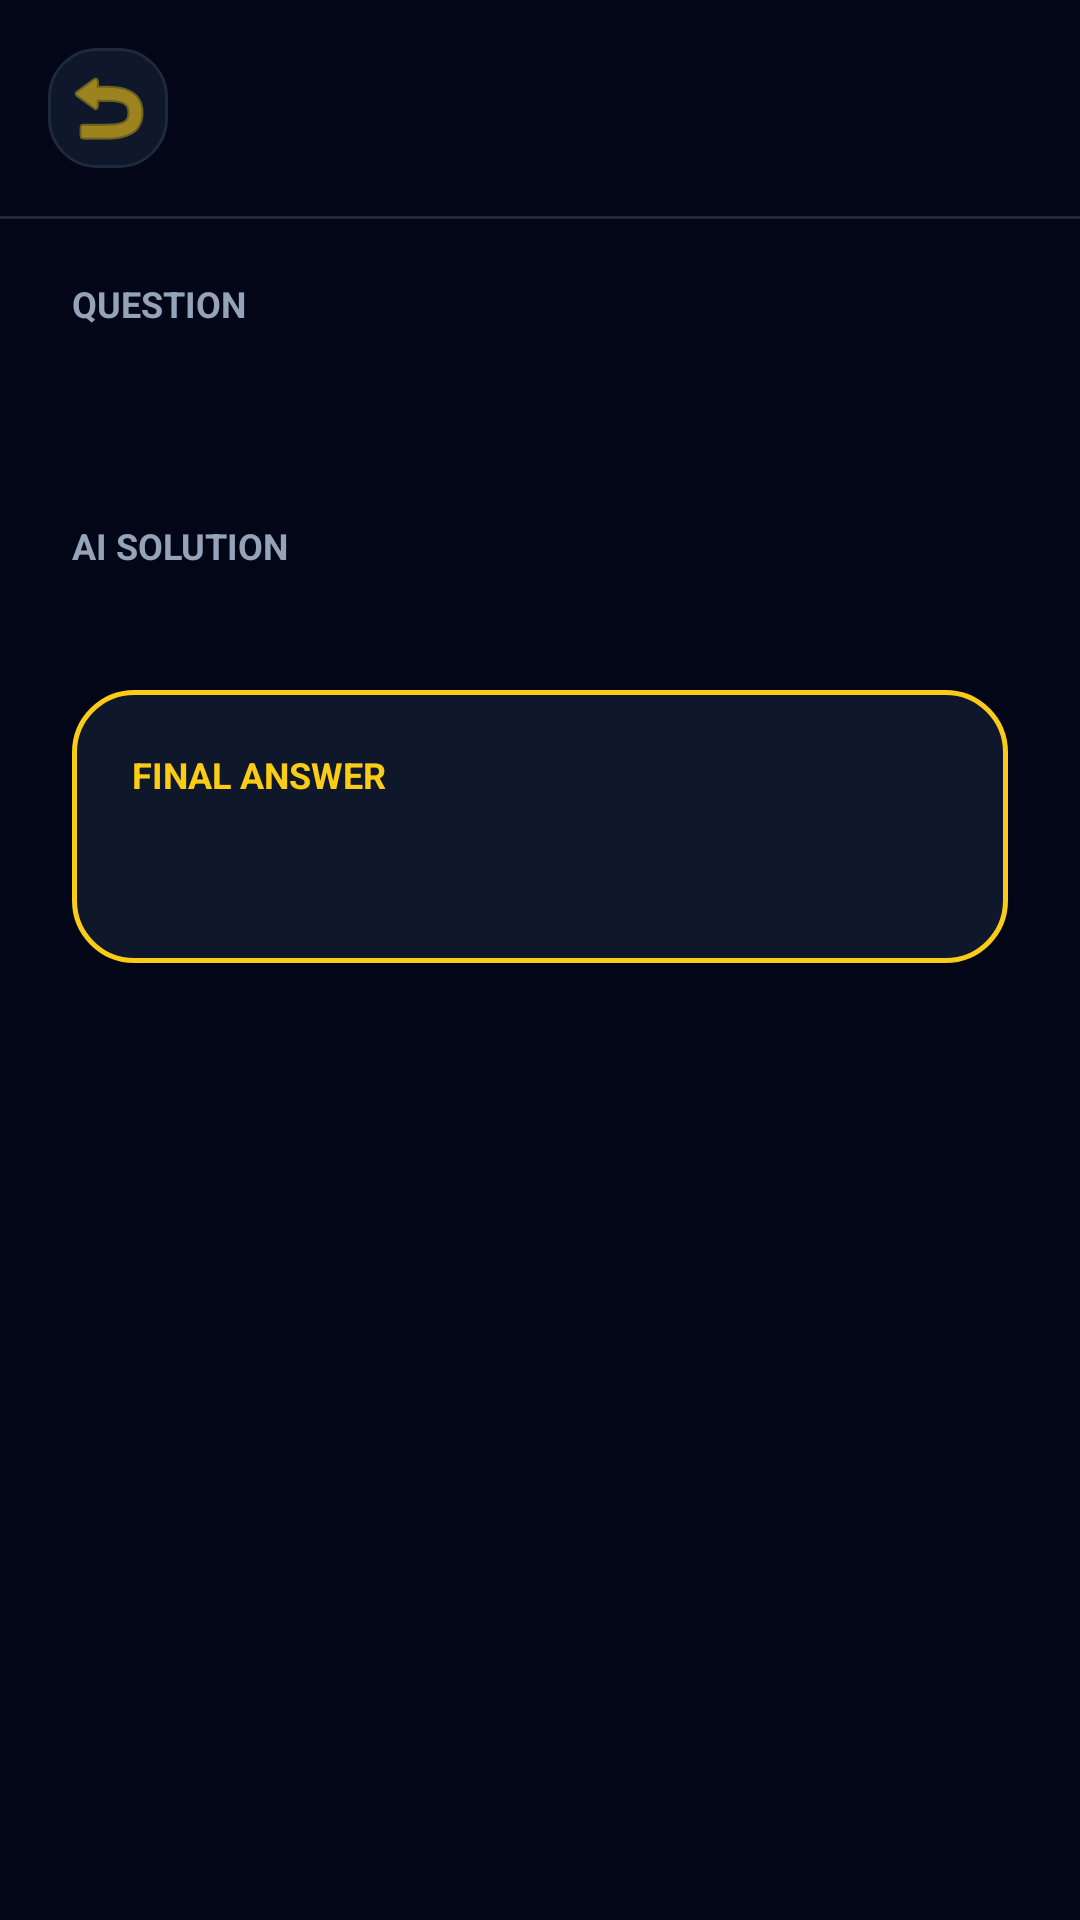

Icons on this 1080 × 1920 Android screen, each with its box as [x1,y1,x2,y2]:
revert: [48,48,168,168]
